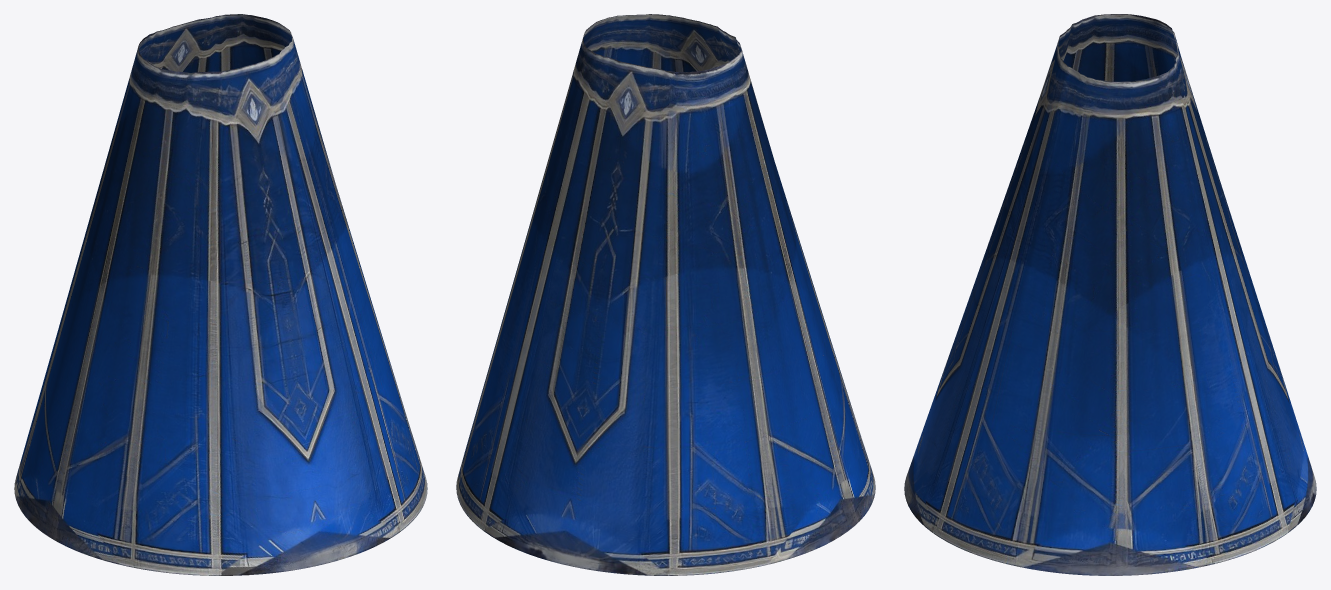
The model's file is BlueMageLowerbody.glb.
3 renders of one model, left to right at view 1: azimuth 30°, elevation 25°; view 2: azimuth 150°, elevation 25°; view 3: azimuth 270°, elevation 25°, orthographic.
Bounding box in the file's own units: 1.7 × 2 × 1.7.
1 material, 1 textured.
